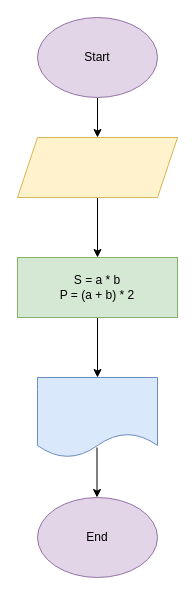
This 195x595 diagram has some shape labels left out. Each missing label, with the box of its shape:
a, b, S, P: (16, 136, 178, 198)
S, P: (36, 376, 158, 458)
